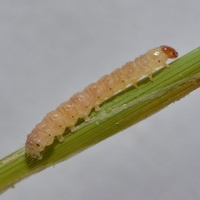insect: (25, 46, 177, 158)
